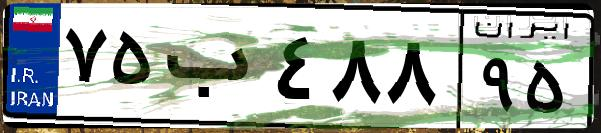4: (270, 28, 330, 110)
5: (525, 38, 570, 115), (110, 28, 158, 98)
7: (57, 26, 110, 100)
8: (385, 28, 445, 110), (330, 28, 385, 110)
9: (475, 38, 525, 113)
ب: (158, 20, 270, 120)
